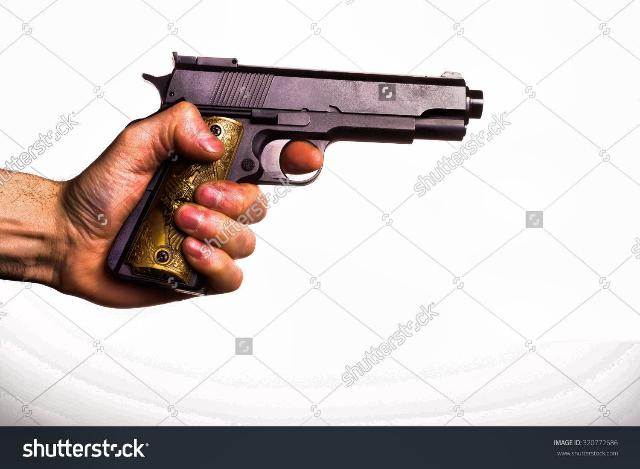pistol: (106, 48, 484, 294)
